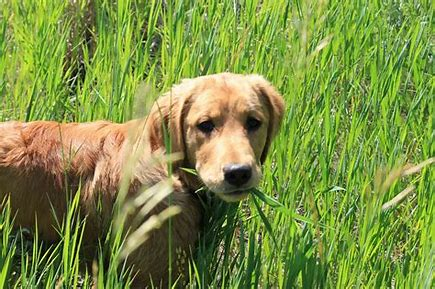dog: (3, 68, 285, 268)
